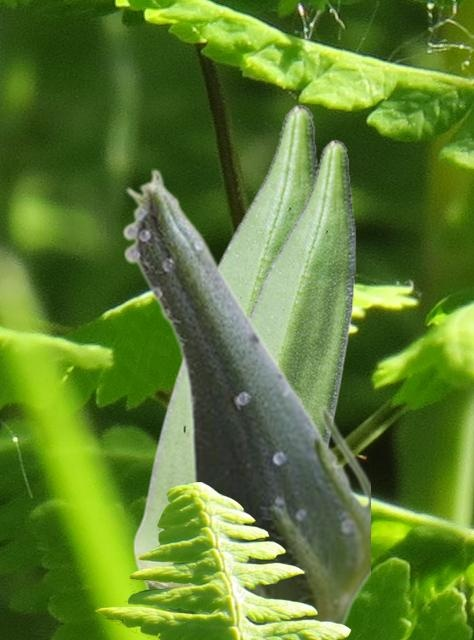okra: (121, 168, 369, 624), (133, 104, 319, 589), (248, 139, 355, 445)
